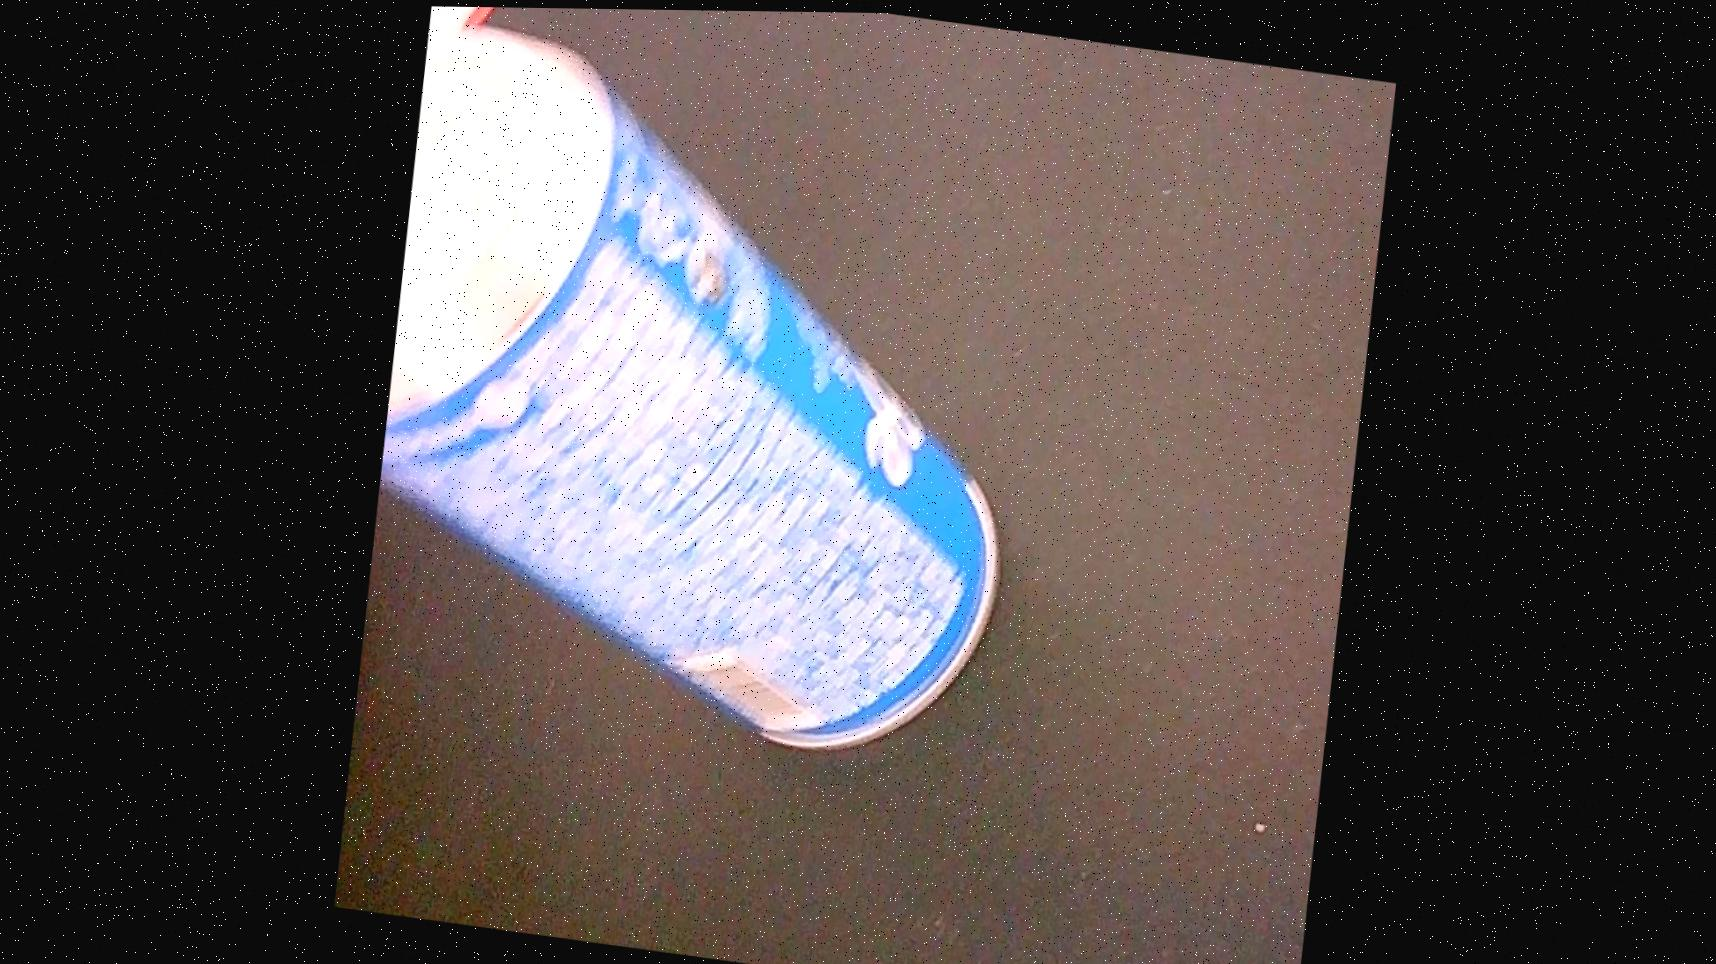letsbe: (348, 14, 1060, 774)
